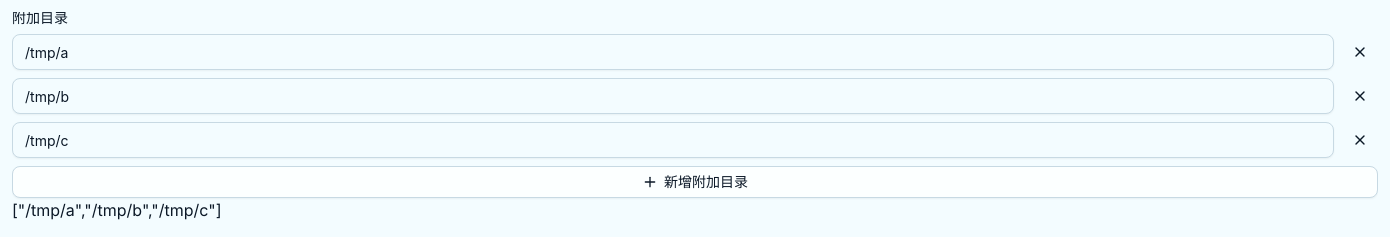
StringListField › 交互 › 点击删除按钮移除对应行
Click the button named "删除" at point(1360, 96), box top-left (1342, 78), bottom-right (1378, 114)
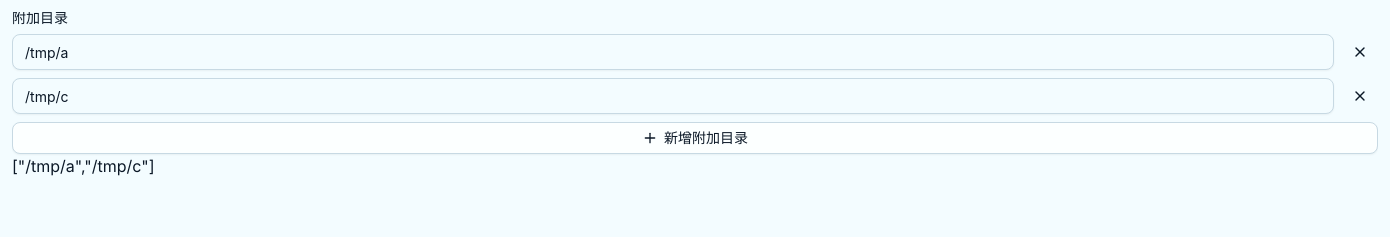
Now the text with test id "value" reads "[\"/tmp/a\",\"/tmp/c\"]", box top-left (12, 156), bottom-right (154, 176)
